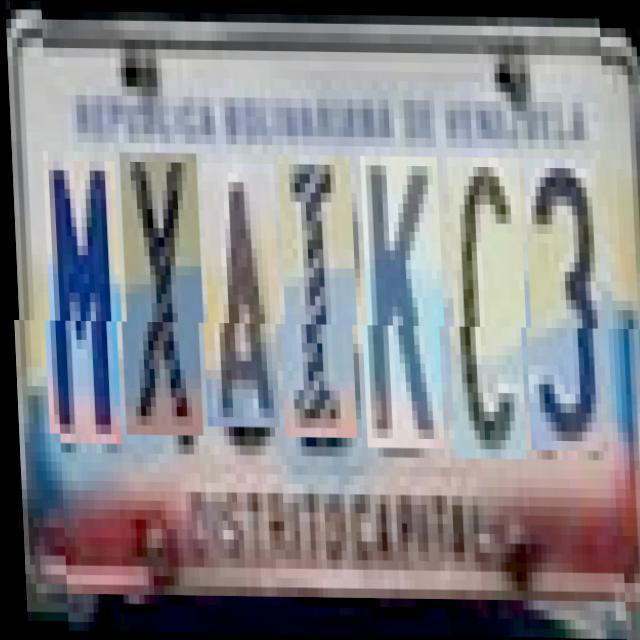3: (522, 156, 604, 450)
A: (200, 162, 281, 426)
C: (446, 156, 528, 458)
I: (276, 154, 358, 437)
K: (358, 154, 446, 448)
M: (41, 160, 122, 444)
X: (118, 152, 205, 436)
